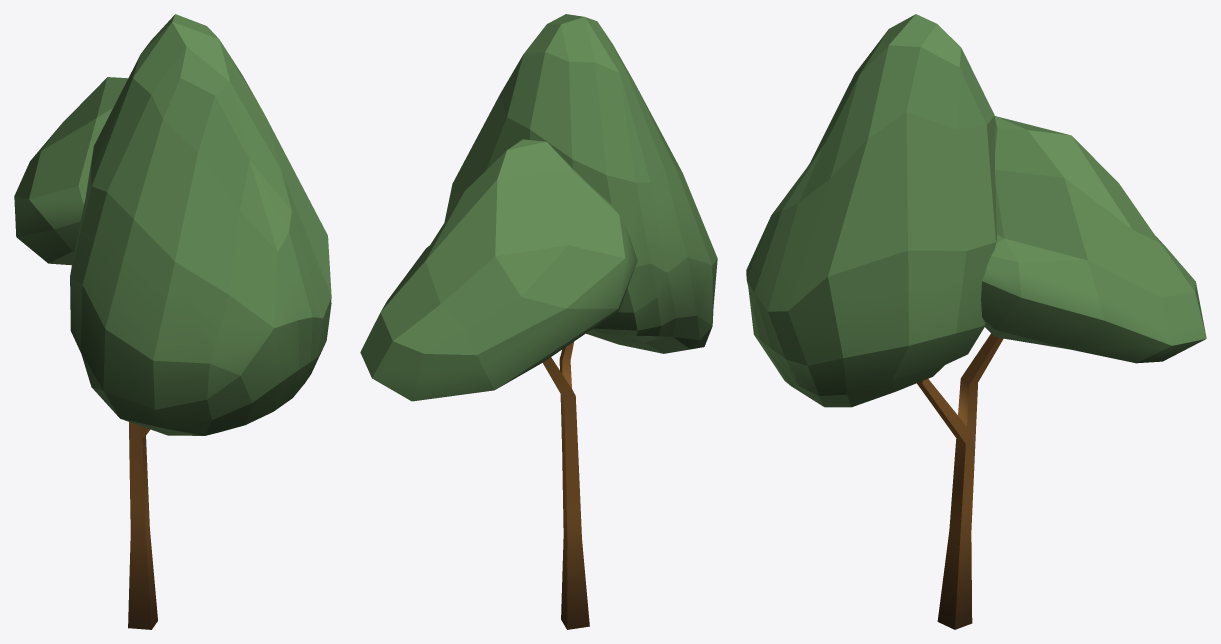
Rendered from Tree_Sml-03.FBX.
3 renders of one model, left to right at view 1: azimuth 30°, elevation 25°; view 2: azimuth 150°, elevation 25°; view 3: azimuth 270°, elevation 25°, orthographic. The views are drawn at different scales.
Visible parts, largest first — view 1: Tree_Sml-03; view 2: Tree_Sml-03; view 3: Tree_Sml-03.
Boxes of the visible parts, x1,y1,x2,y2 form: Tree_Sml-03: (14,14,331,629); Tree_Sml-03: (360,14,717,629); Tree_Sml-03: (746,14,1206,629).
Bounding box in the file's own units: 54.67 × 134 × 90.79.
1 material, 1 textured.
